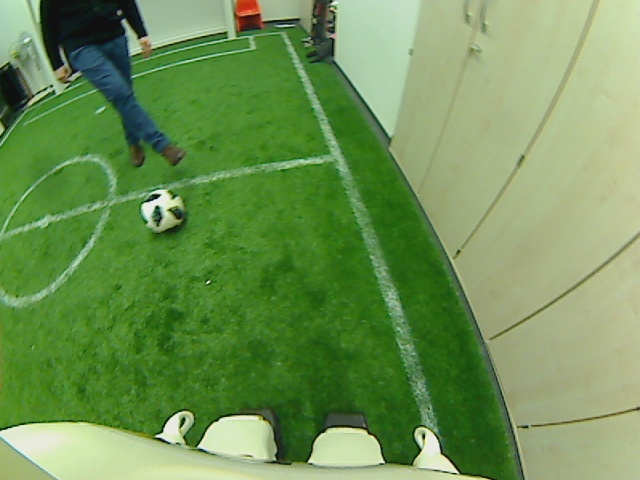ball: (138, 187, 187, 232)
